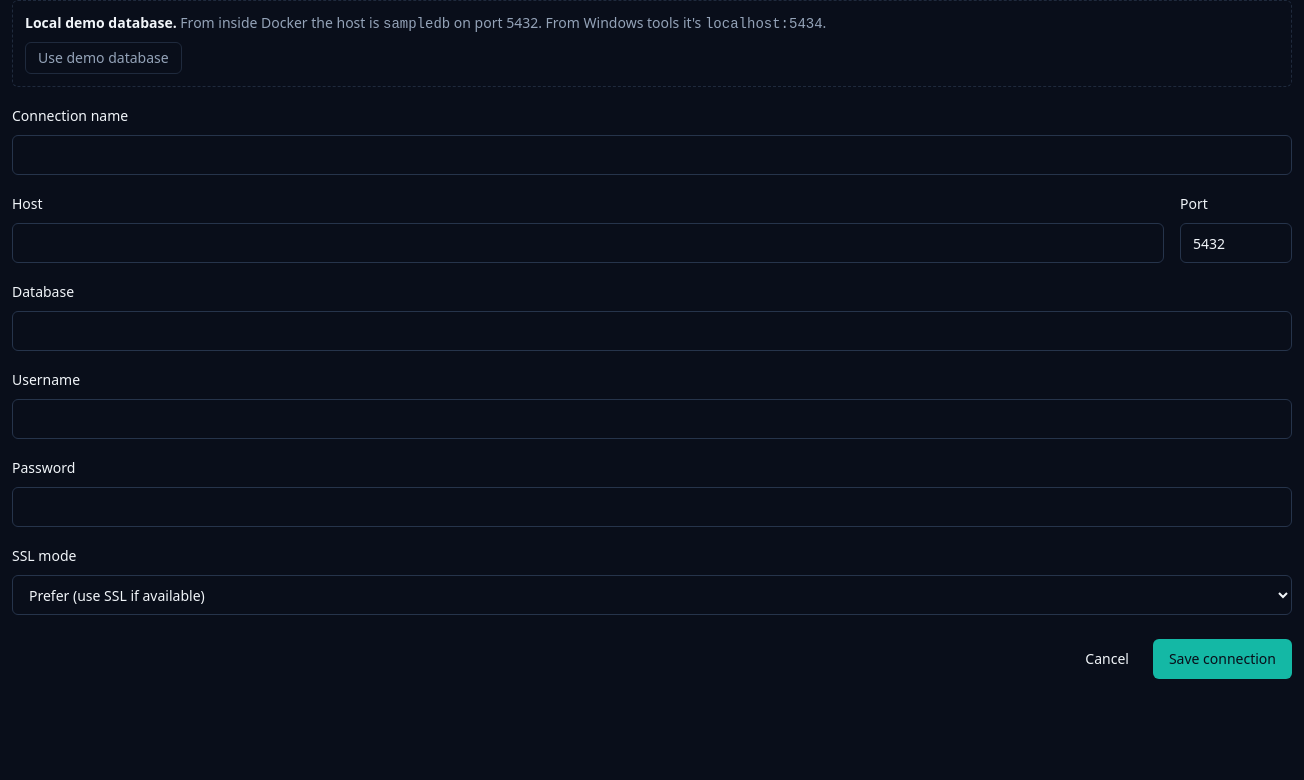
Test case: shows validation errors and does not submit an empty form
Click the button "Save connection".
click(1222, 659)  # box [1153,639,1292,679]
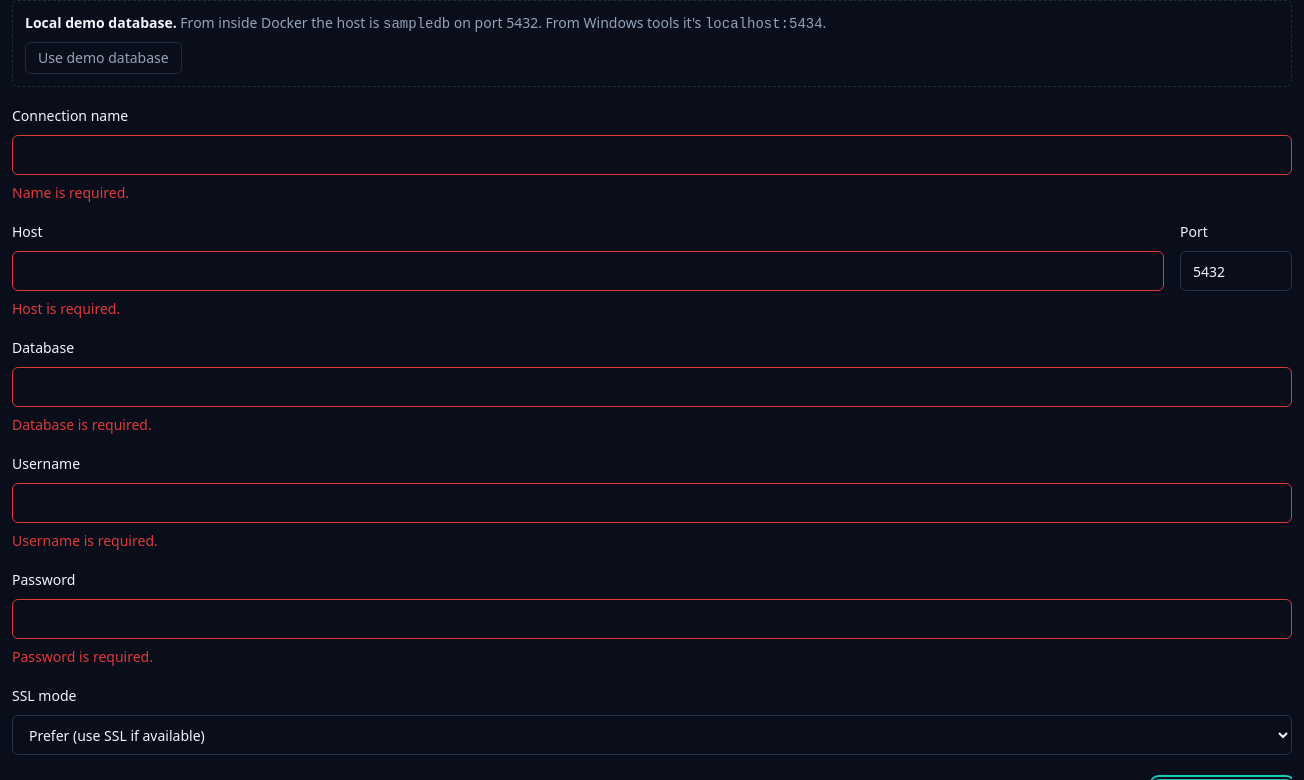
expect the text "Name is required." is shown: met, box [12,183,129,202]
expect the text "Host is required." is shown: met, box [12,299,120,318]
expect the text "Password is required." is shown: met, box [12,647,153,666]
